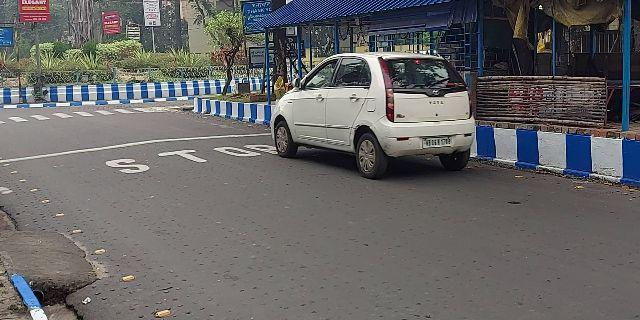Car: (269, 53, 481, 173)
